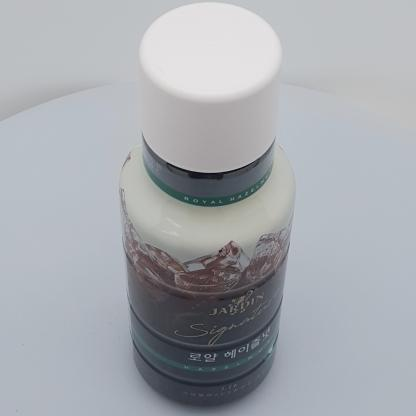--------1-1L: (118, 2, 296, 409)
